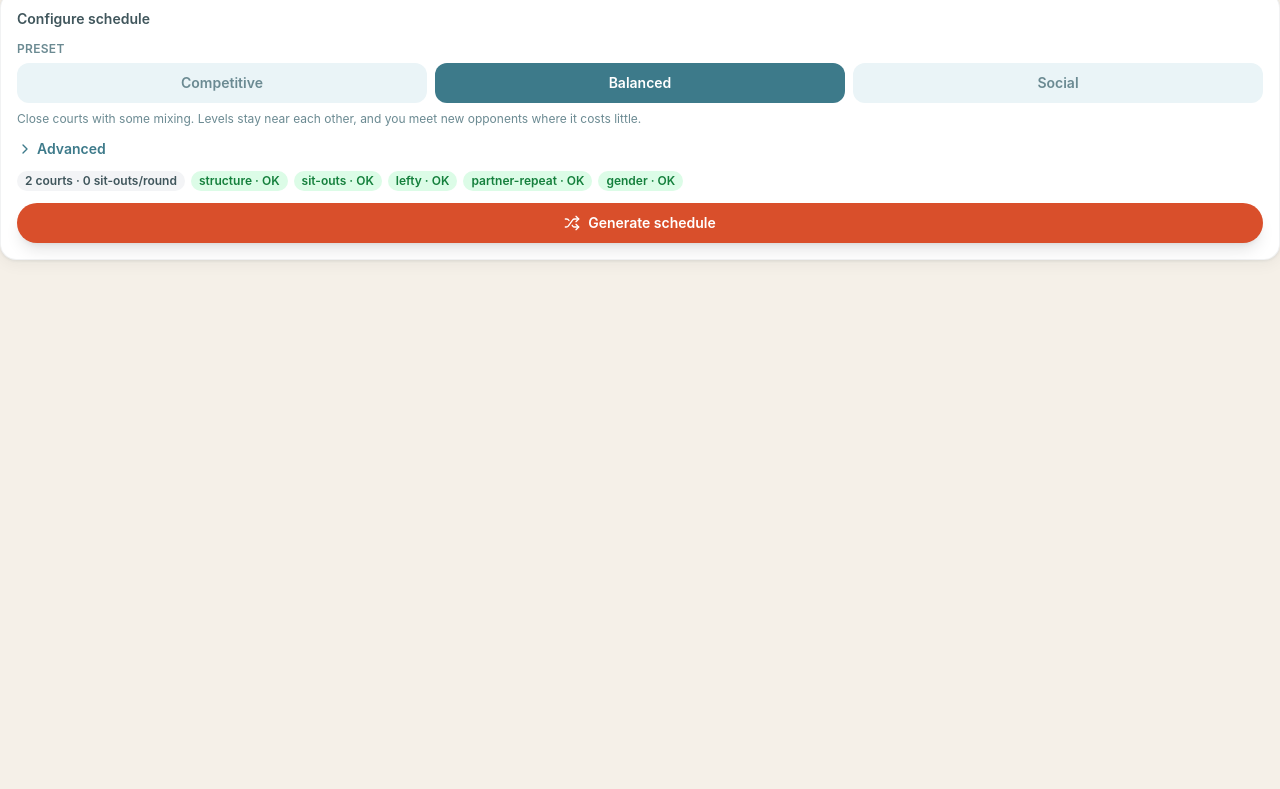
it: MatchmakingContainer — tap a player, apply, undo (D-036) › show all swaps re-queries and hides the control
Click the button "Generate schedule" at point(640, 223), box left=17, top=203, right=1263, bottom=243
(page scrolled)
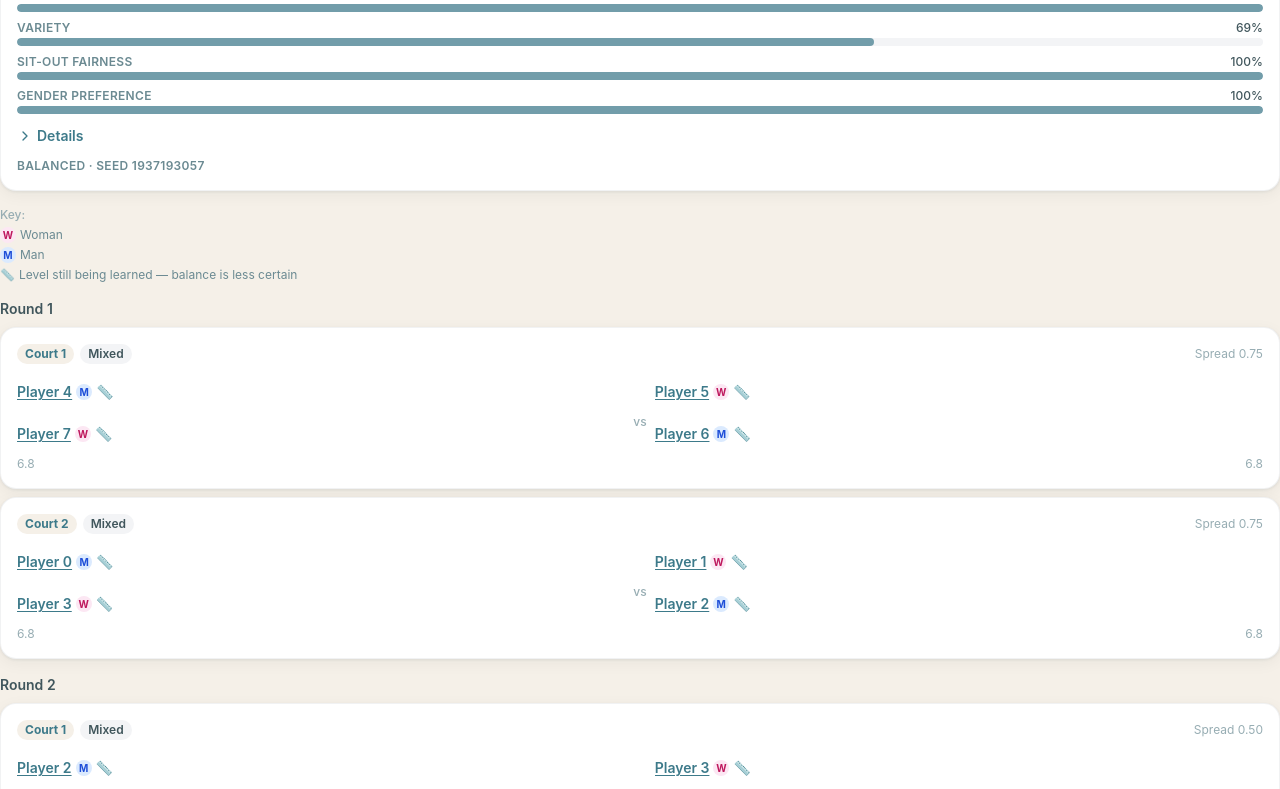
Click the button with aria-label "swap options for " at point(45, 392), box left=9, top=370, right=80, bottom=414
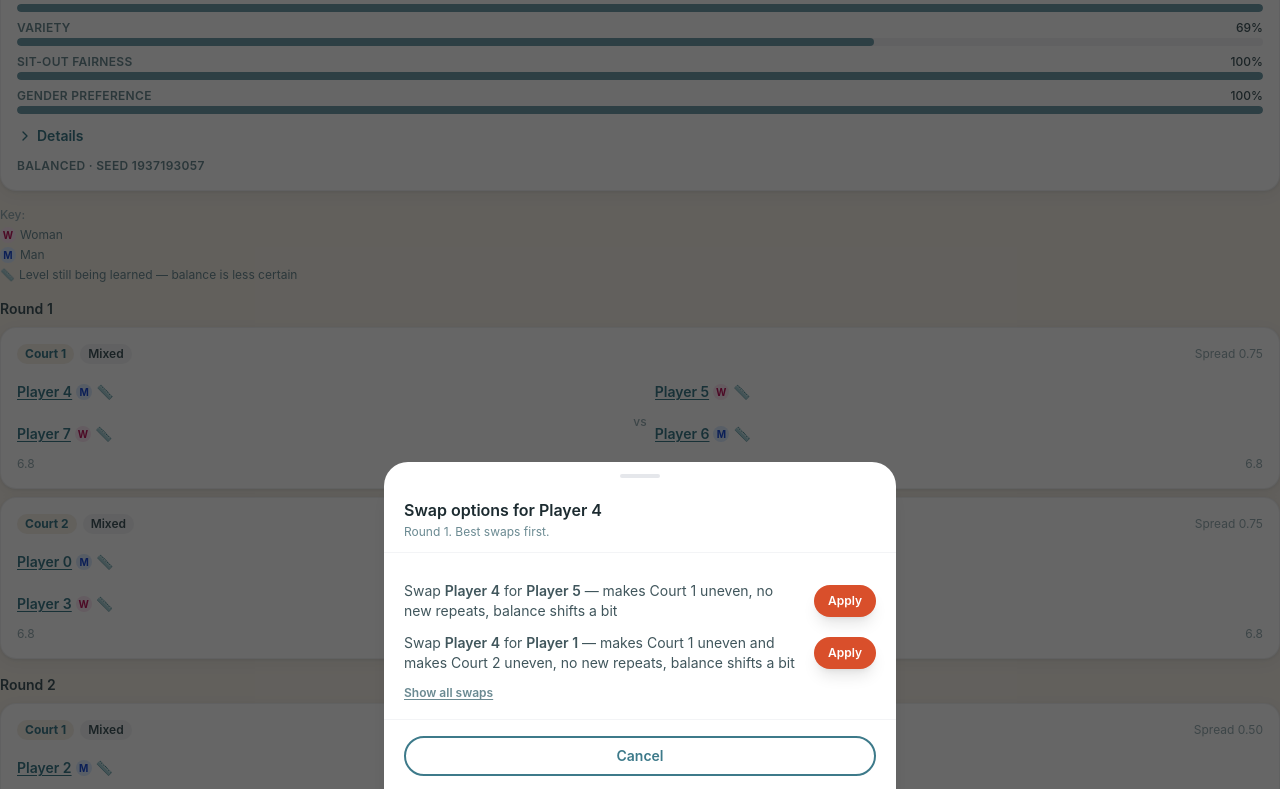
Expected: the button "Show all swaps" is shown
Click the button "Show all swaps" at point(449, 693), box left=404, top=685, right=493, bottom=701
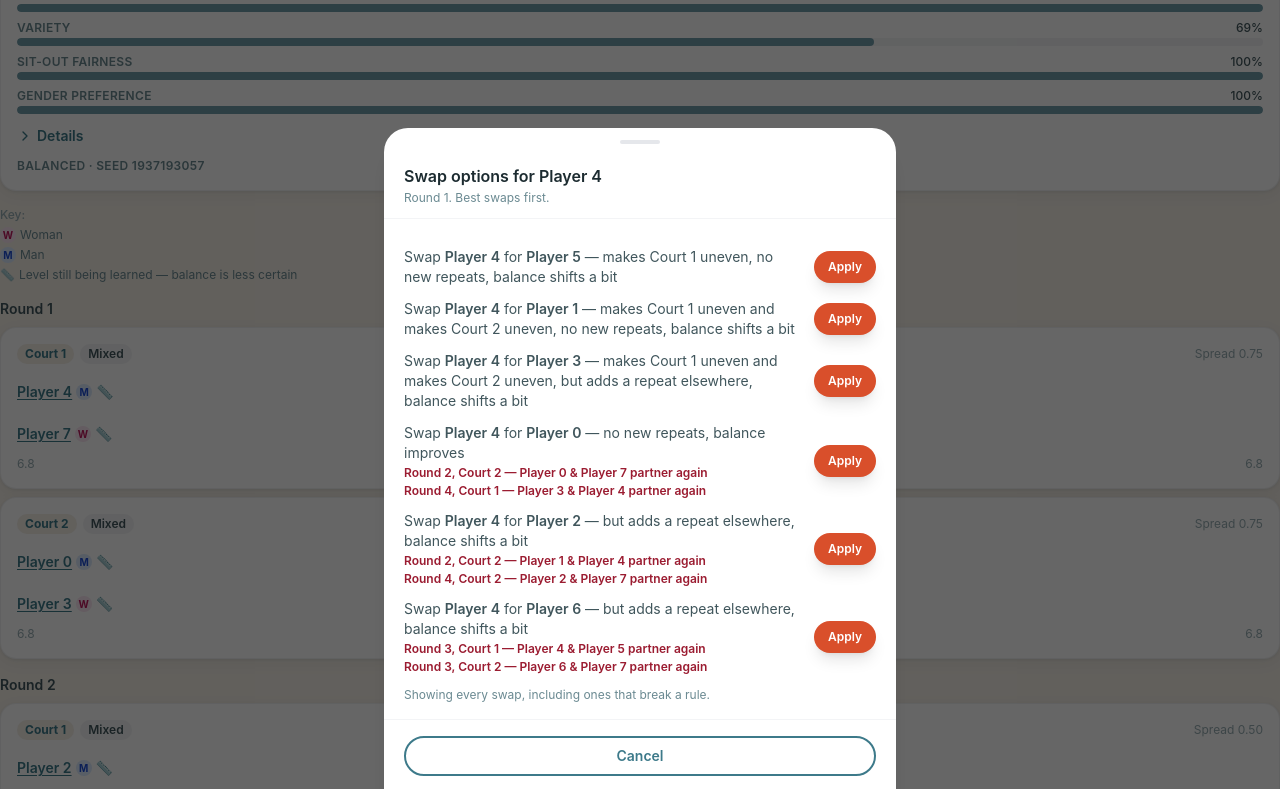
Expected: the button "Show all swaps" is gone
